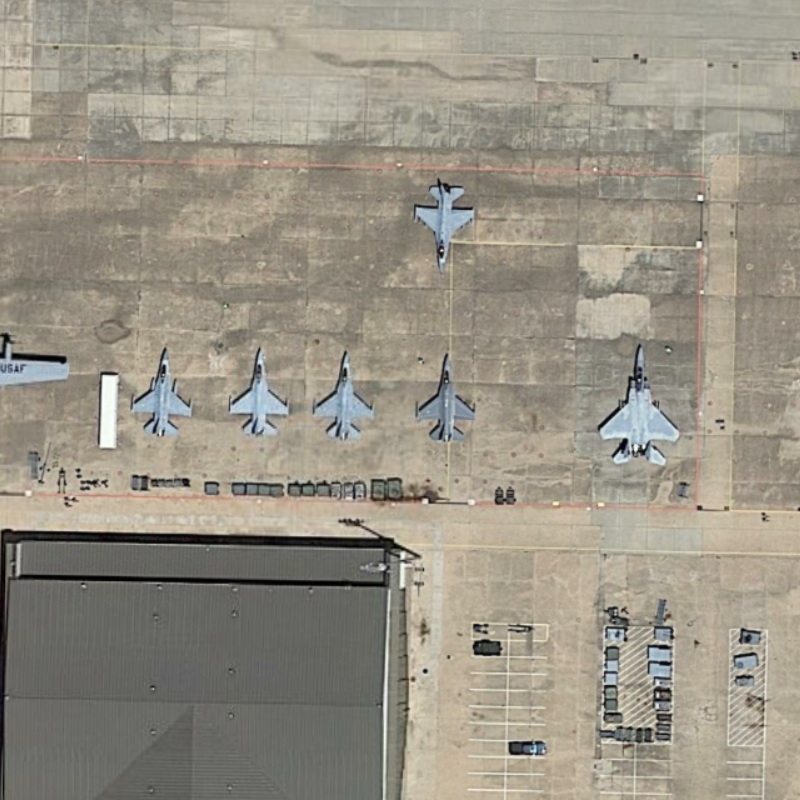A13: (587, 334, 691, 475)
A5: (408, 174, 491, 279), (222, 337, 300, 441), (408, 351, 487, 448), (309, 349, 382, 448), (129, 341, 199, 442)
